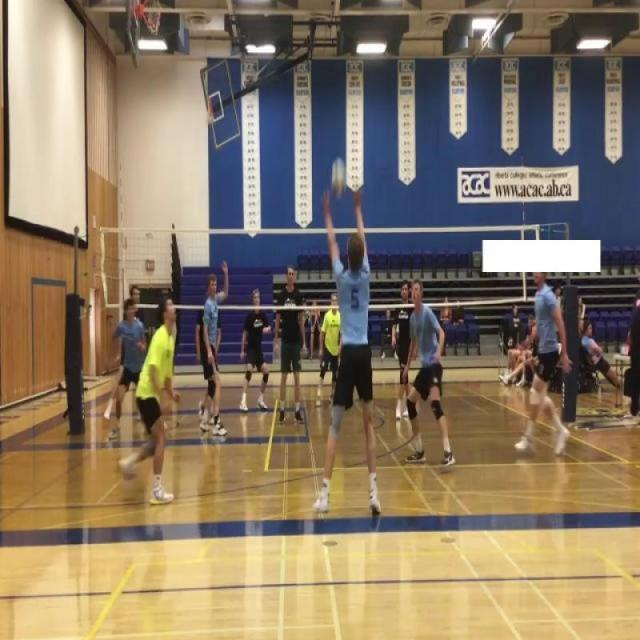volleyball: (330, 157, 348, 201)
